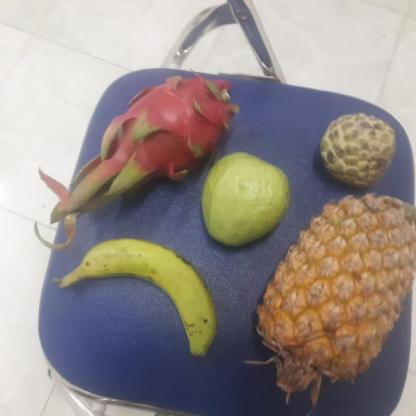annona: (316, 113, 396, 191)
banana: (58, 237, 215, 351)
guava: (198, 155, 290, 246)
pitaya: (114, 75, 233, 188)
